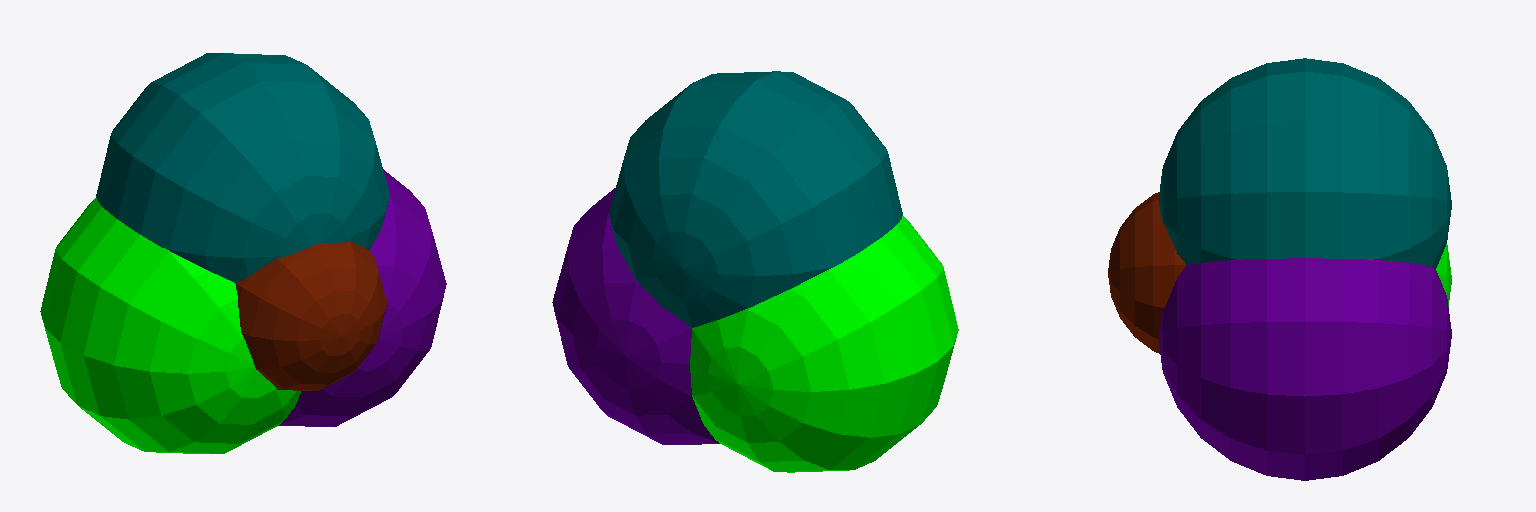
Rendered from nimbus01obj.obj.
The picture shows the model from 3 angles: view 1: azimuth 30°, elevation 25°; view 2: azimuth 150°, elevation 25°; view 3: azimuth 270°, elevation 25°; orthographic projection.
Parts seen in each view (by area): view 1: nimbus2; view 2: nimbus2; view 3: nimbus2.
Boxes of the visible parts, box(x1,y1,x2,y2) form: nimbus2: box(40, 53, 446, 453); nimbus2: box(552, 71, 958, 472); nimbus2: box(1108, 58, 1451, 480).
Size of the model in its own units: 32.61 by 31.31 by 26.49.